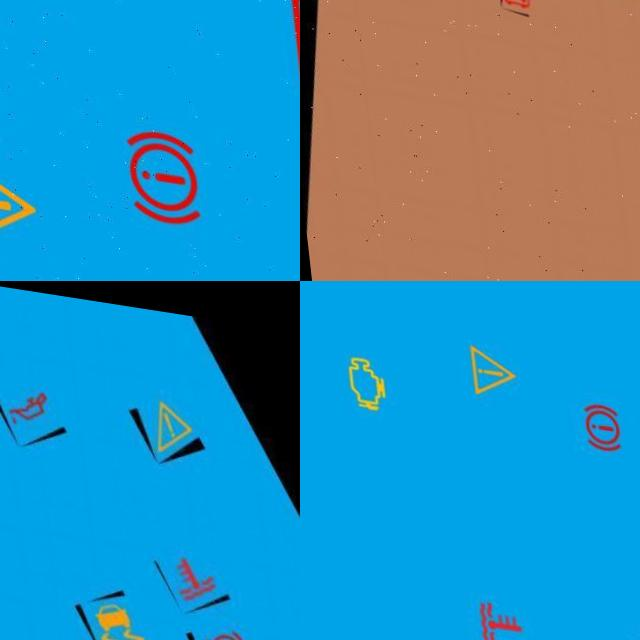High Engine Coolant Temperature: (458, 586, 523, 640)
